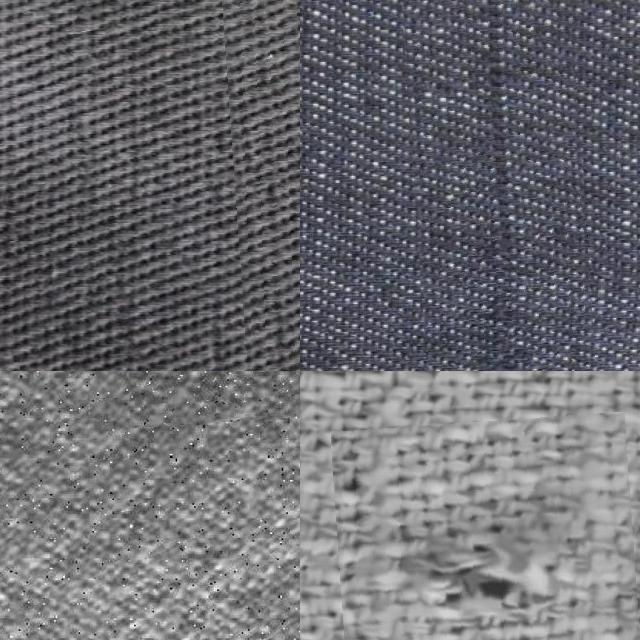other: (335, 416, 640, 640), (119, 371, 300, 424)
stains: (409, 0, 595, 371), (216, 0, 300, 371)
